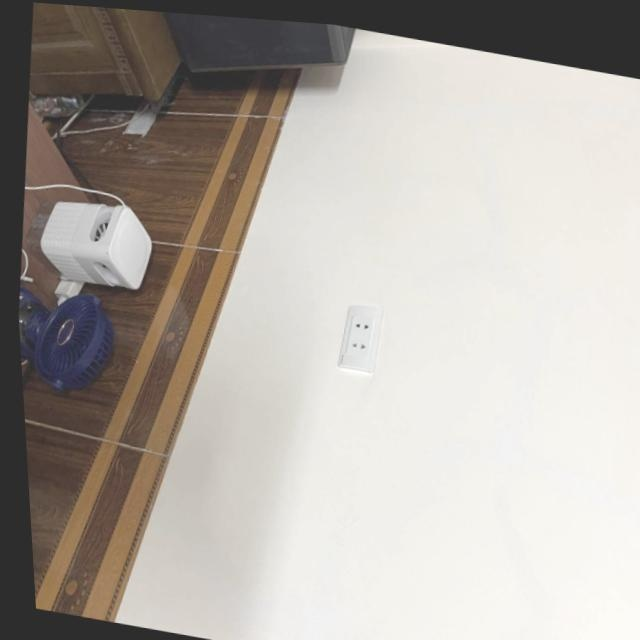outlet: (333, 300, 386, 376)
